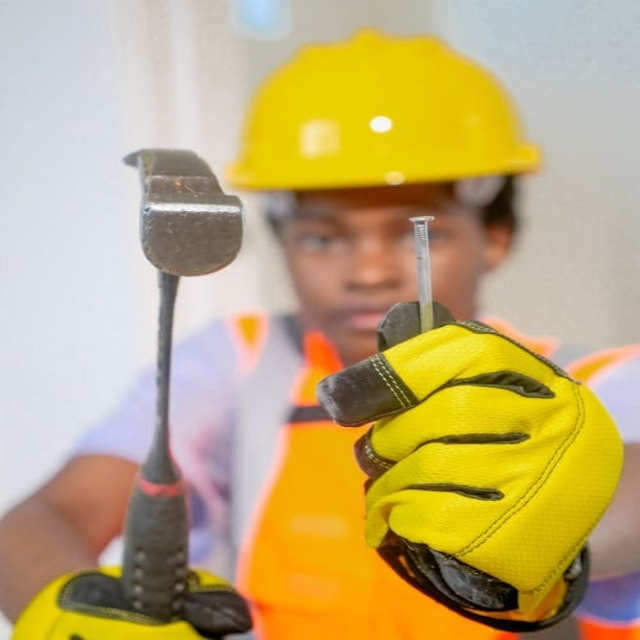Guantes: (321, 297, 622, 630), (11, 563, 251, 639)
